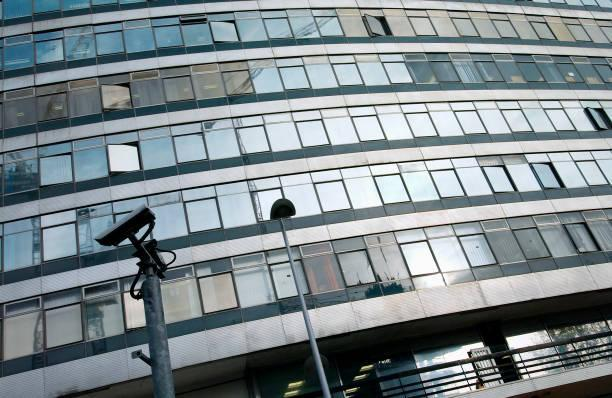camera: (82, 188, 170, 270)
